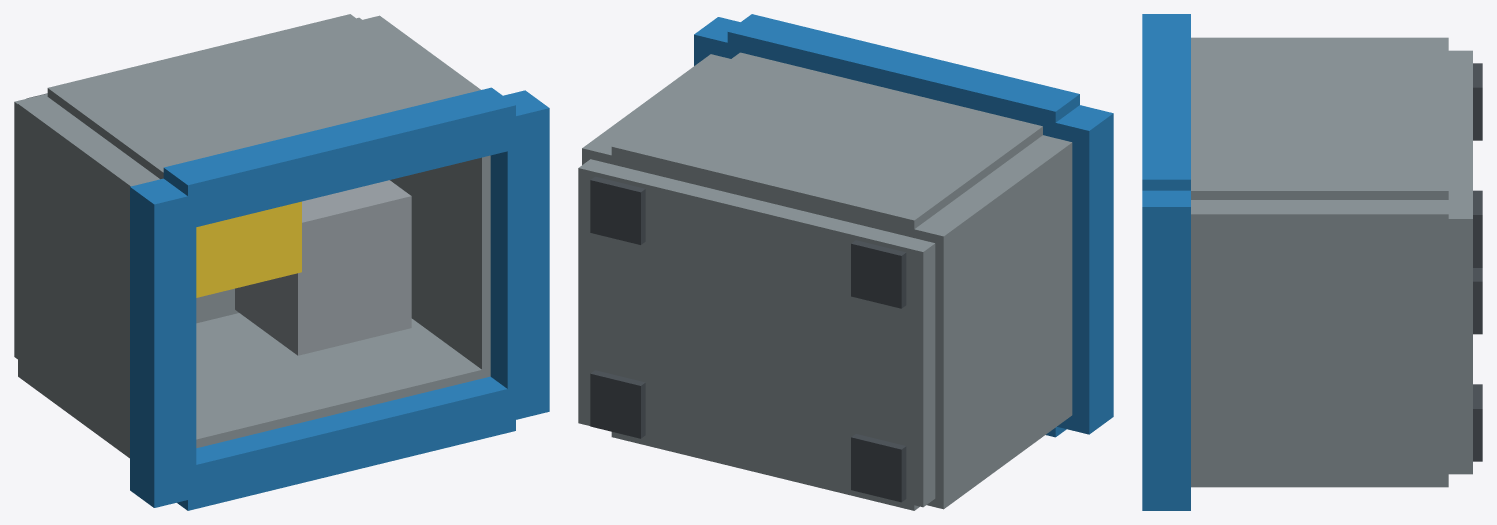
The model's file is cargo-bin.glb.
3 views of the same model, side by side, from view 1: azimuth 30°, elevation 25°; view 2: azimuth 150°, elevation 25°; view 3: azimuth 270°, elevation 25° (orthographic).
Visible parts, largest first — view 1: left-wall, rear-wall, left-rim, right-wall, rear-rim, cargo-b, right-rim, front-rim, front-wall, cargo-a, floor; view 2: floor, left-wall, rear-wall, left-rim, rear-rim, foot-0.31--0.22, foot-0.31-0.22, foot--0.31--0.22, foot--0.31-0.22, front-wall, right-wall, front-rim; view 3: front-wall, left-wall, front-rim, floor, left-rim, rear-wall, foot--0.31-0.22, foot-0.31--0.22, foot-0.31-0.22, foot--0.31--0.22.
Part boxes in pixels (left/top/right/bottom): left-wall: left=47, top=14, right=460, bottom=179; rear-wall: left=18, top=96, right=159, bottom=458; left-rim: left=163, top=87, right=515, bottom=228; right-wall: left=196, top=313, right=481, bottom=448; rear-rim: left=130, top=178, right=196, bottom=507; cargo-b: left=235, top=180, right=411, bottom=355; right-rim: left=177, top=376, right=515, bottom=510; front-rim: left=490, top=90, right=549, bottom=421; front-wall: left=359, top=15, right=490, bottom=378; cargo-a: left=196, top=201, right=301, bottom=297; floor: left=14, top=17, right=361, bottom=359; floor: left=578, top=159, right=935, bottom=507; left-wall: left=611, top=52, right=1042, bottom=236; rear-wall: left=910, top=135, right=1072, bottom=509; left-rim: left=727, top=14, right=1079, bottom=137; rear-rim: left=1053, top=105, right=1113, bottom=434; foot-0.31--0.22: left=590, top=370, right=645, bottom=438; foot-0.31-0.22: left=590, top=176, right=645, bottom=244; foot--0.31--0.22: left=851, top=434, right=906, bottom=502; foot--0.31-0.22: left=851, top=240, right=906, bottom=308; front-wall: left=582, top=54, right=730, bottom=164; right-wall: left=611, top=432, right=919, bottom=510; front-rim: left=694, top=17, right=740, bottom=65; front-wall: left=1191, top=200, right=1448, bottom=487; left-wall: left=1191, top=43, right=1448, bottom=199; front-rim: left=1142, top=190, right=1190, bottom=510; floor: left=1448, top=50, right=1472, bottom=474; left-rim: left=1142, top=19, right=1190, bottom=190; rear-wall: left=1191, top=37, right=1448, bottom=43; foot--0.31-0.22: left=1473, top=63, right=1482, bottom=140; foot-0.31--0.22: left=1473, top=384, right=1482, bottom=461; foot-0.31-0.22: left=1473, top=190, right=1482, bottom=267; foot--0.31--0.22: left=1473, top=268, right=1482, bottom=334.
Bounding box in the file's own units: 0.94 × 0.74 × 0.7.
